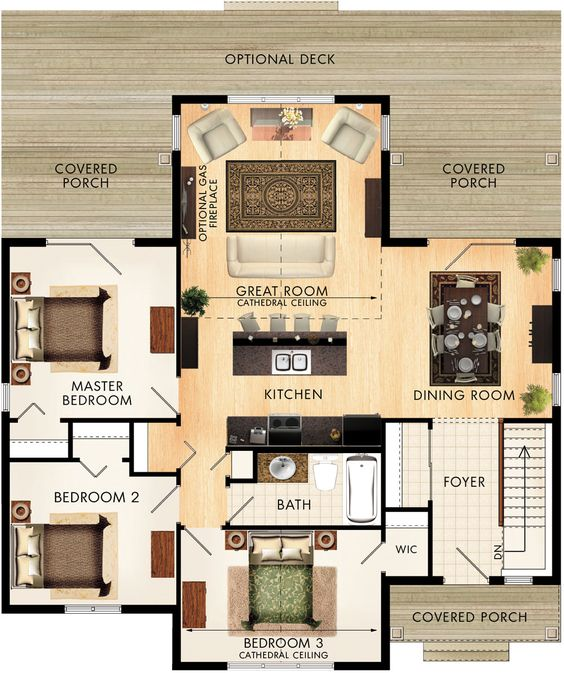wall: (1, 411, 9, 613), (552, 406, 560, 583), (381, 576, 390, 669), (171, 152, 180, 244), (1, 238, 10, 330), (380, 151, 389, 243), (226, 446, 383, 451), (380, 420, 386, 543), (551, 292, 560, 373), (176, 246, 181, 378), (221, 525, 386, 529), (59, 418, 176, 423), (175, 521, 181, 607), (382, 576, 442, 584), (173, 605, 180, 670), (134, 236, 179, 246), (2, 237, 47, 247), (171, 95, 227, 103), (332, 94, 388, 102), (6, 457, 79, 463), (428, 499, 433, 585), (1, 329, 9, 382), (382, 237, 427, 246), (334, 662, 388, 669), (515, 237, 561, 245), (3, 605, 63, 611), (122, 605, 182, 611), (128, 419, 134, 477), (381, 416, 430, 423), (174, 662, 226, 668), (532, 575, 558, 586), (503, 417, 557, 422), (130, 472, 180, 477), (380, 506, 433, 510), (379, 94, 389, 115), (170, 95, 180, 115), (68, 419, 73, 459), (253, 447, 258, 482), (551, 238, 559, 258), (226, 478, 253, 482), (176, 469, 182, 486), (488, 577, 501, 583), (121, 456, 132, 463), (5, 417, 20, 422), (176, 414, 182, 426), (225, 474, 230, 488), (428, 418, 433, 430)
